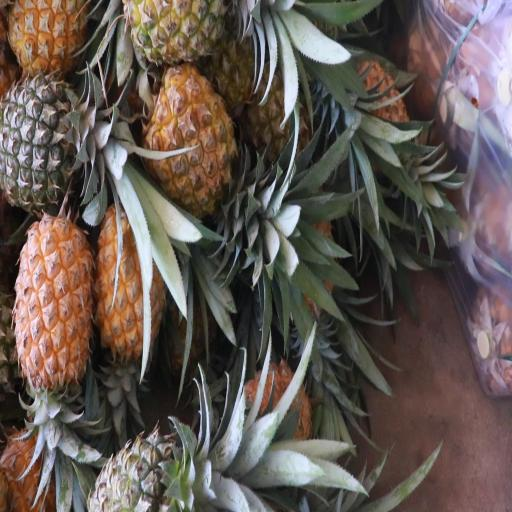Pineapple - v8 v1: (146, 68, 264, 208), (17, 204, 89, 417), (98, 193, 169, 356)
